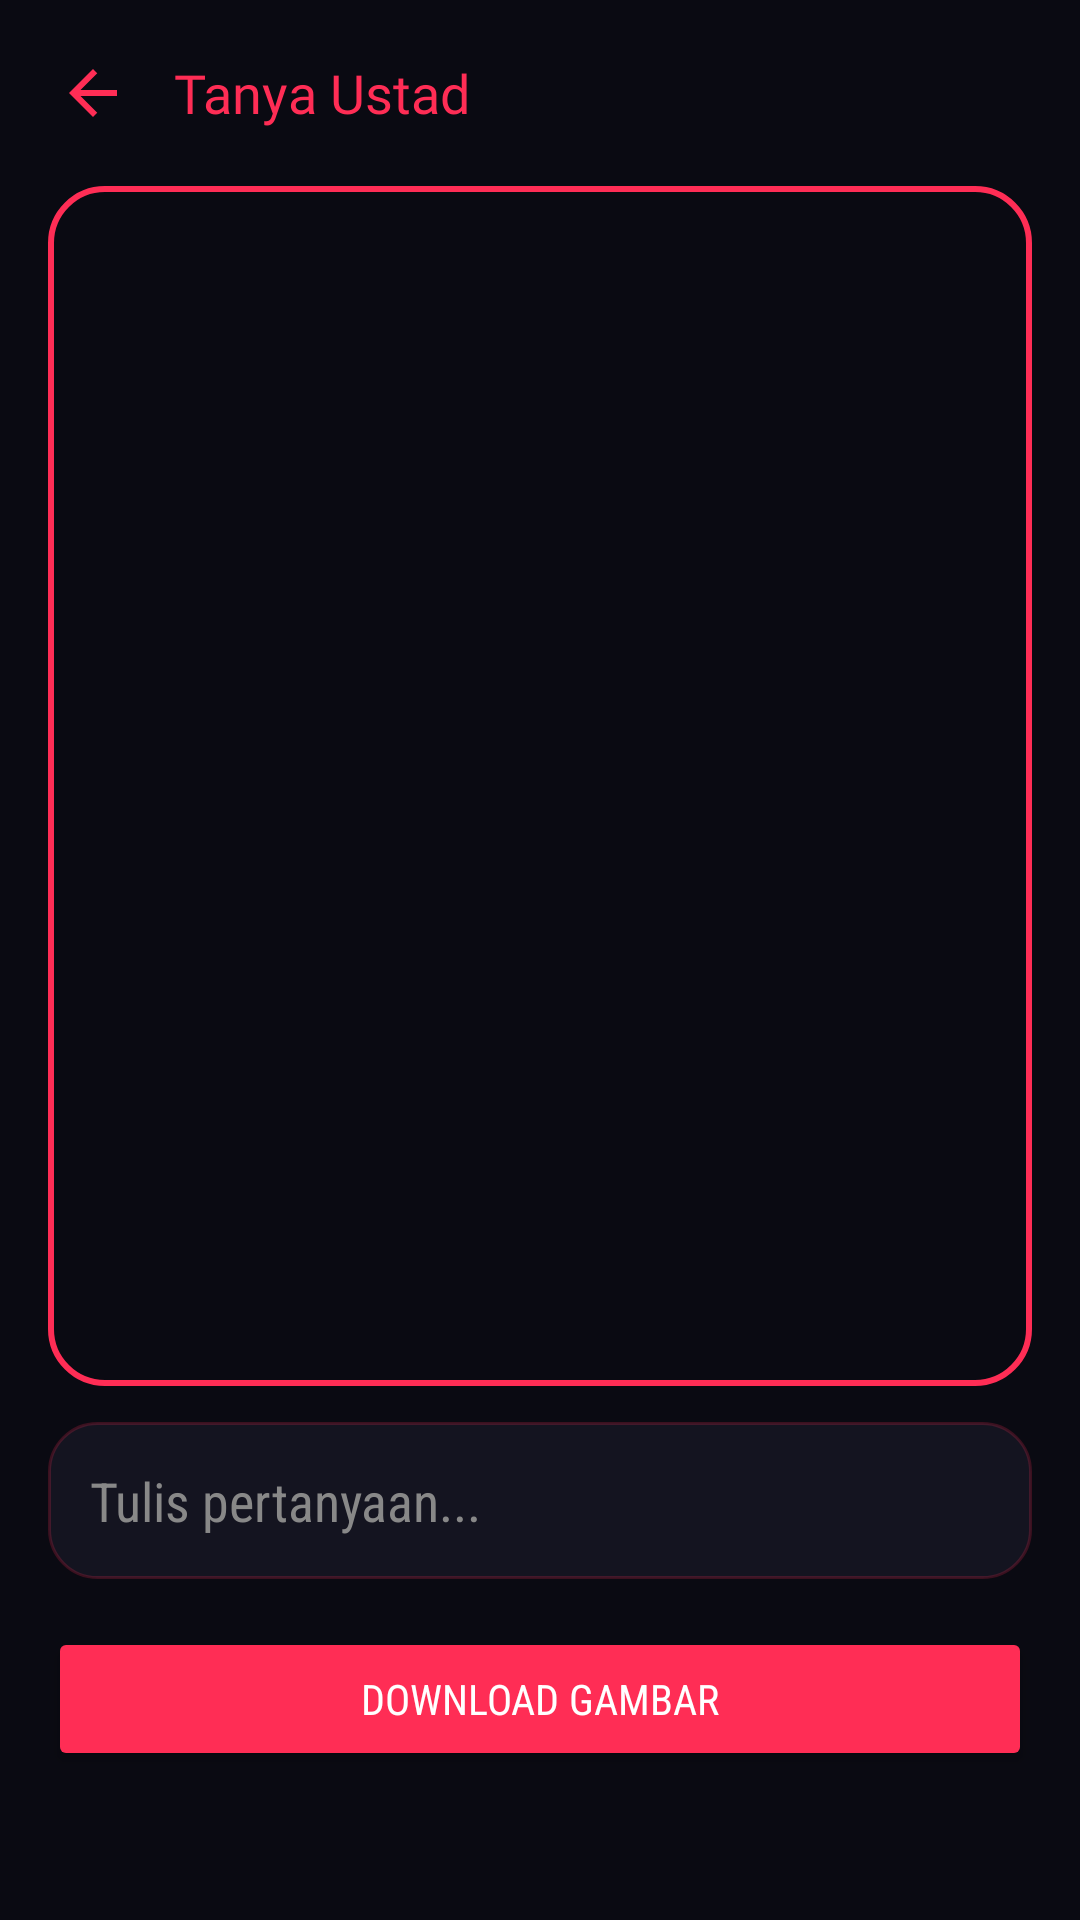

Point at icon controls on the screen. Image size 1080px×1920px, points as (x=x, y=y).
Back: (x=93, y=93)
